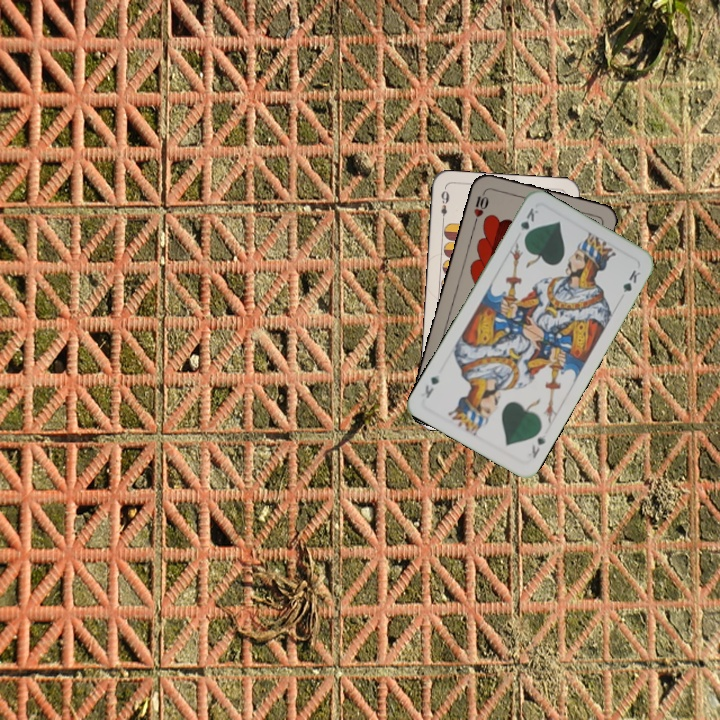E9: (436, 187, 452, 225)
GK: (516, 204, 541, 243), (527, 431, 549, 461)
H10: (470, 186, 491, 226)
